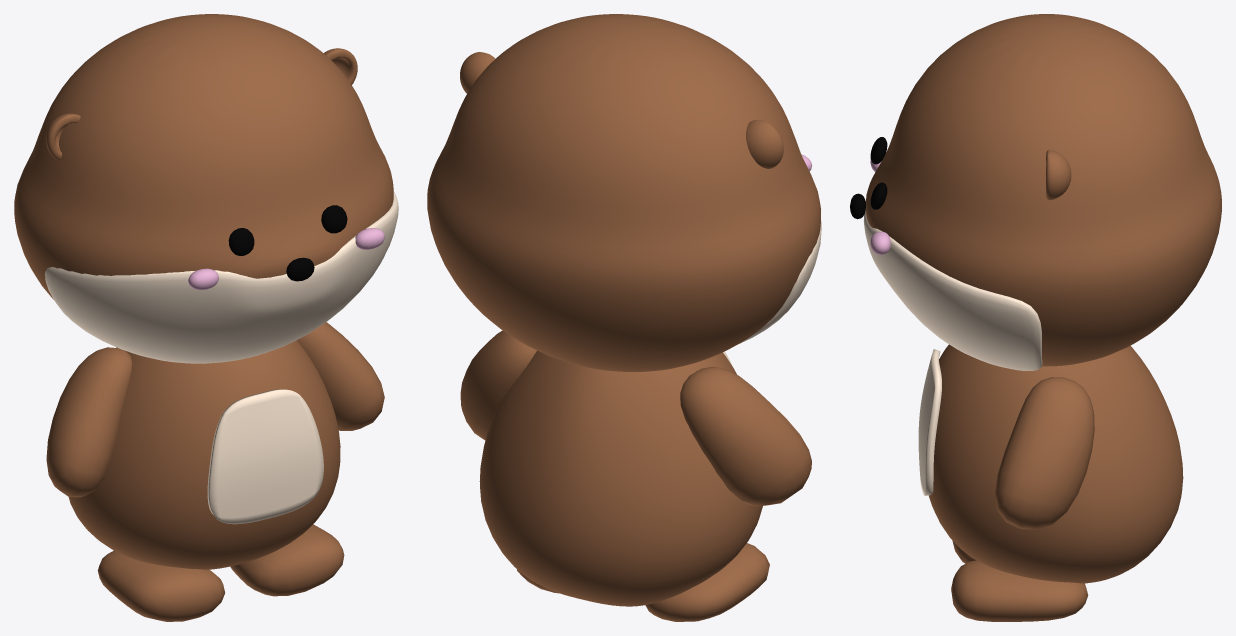
File: otter modeling.fbx
3 renders of one model, left to right at view 1: azimuth 30°, elevation 25°; view 2: azimuth 150°, elevation 25°; view 3: azimuth 270°, elevation 25°, orthographic. The views are drawn at different scales.
Visible parts, largest first — view 1: Soodal, 구체, 큐브, 구체.001, 큐브.001; view 2: Soodal, 구체, 큐브, 큐브.001; view 3: Soodal, 구체, 큐브, 큐브.001, 구체.001.
Part boxes in pixels (x1,y1,x2,y2): Soodal: (14, 14, 398, 363); 구체: (68, 340, 340, 569); 큐브: (46, 322, 384, 497); 구체.001: (207, 389, 323, 524); 큐브.001: (97, 524, 344, 621); Soodal: (427, 14, 821, 371); 구체: (479, 350, 762, 606); 큐브: (460, 330, 811, 506); 큐브.001: (517, 543, 769, 621); Soodal: (850, 14, 1221, 370); 구체: (928, 344, 1183, 583); 큐브: (994, 377, 1094, 529); 큐브.001: (951, 540, 1088, 621); 구체.001: (918, 349, 941, 495).
Bounding box in the file's own units: 263 × 409 × 248.
